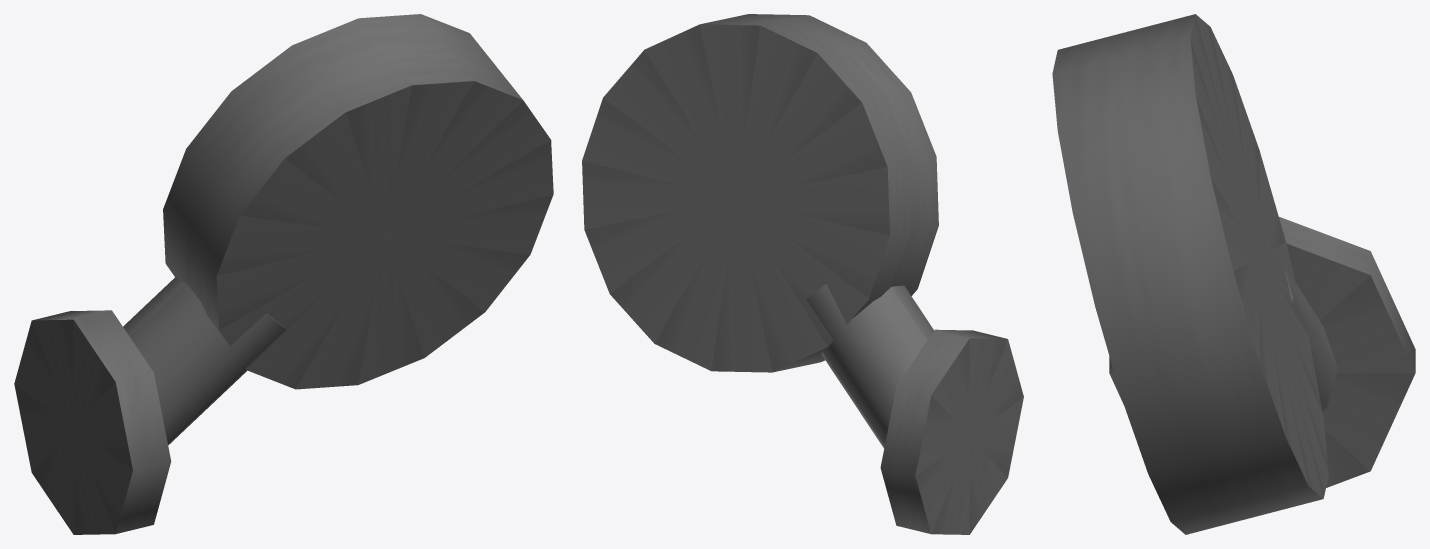
The model's file is mastarmcurve_8x2_c4_west.obj.
3 renders of one model, left to right at view 1: azimuth 30°, elevation 25°; view 2: azimuth 150°, elevation 25°; view 3: azimuth 270°, elevation 25°, orthographic. The views are drawn at different scales.
Parts seen in each view (by area): view 1: mastarm_8x2_c4_west; view 2: mastarm_8x2_c4_west; view 3: mastarm_8x2_c4_west.
Part boxes in pixels (x1,y1,x2,y2): mastarm_8x2_c4_west: (14, 14, 553, 534); mastarm_8x2_c4_west: (582, 14, 1023, 534); mastarm_8x2_c4_west: (1052, 14, 1415, 534).
Bounding box in the file's own units: 0.8272 × 0.8815 × 0.4743.
